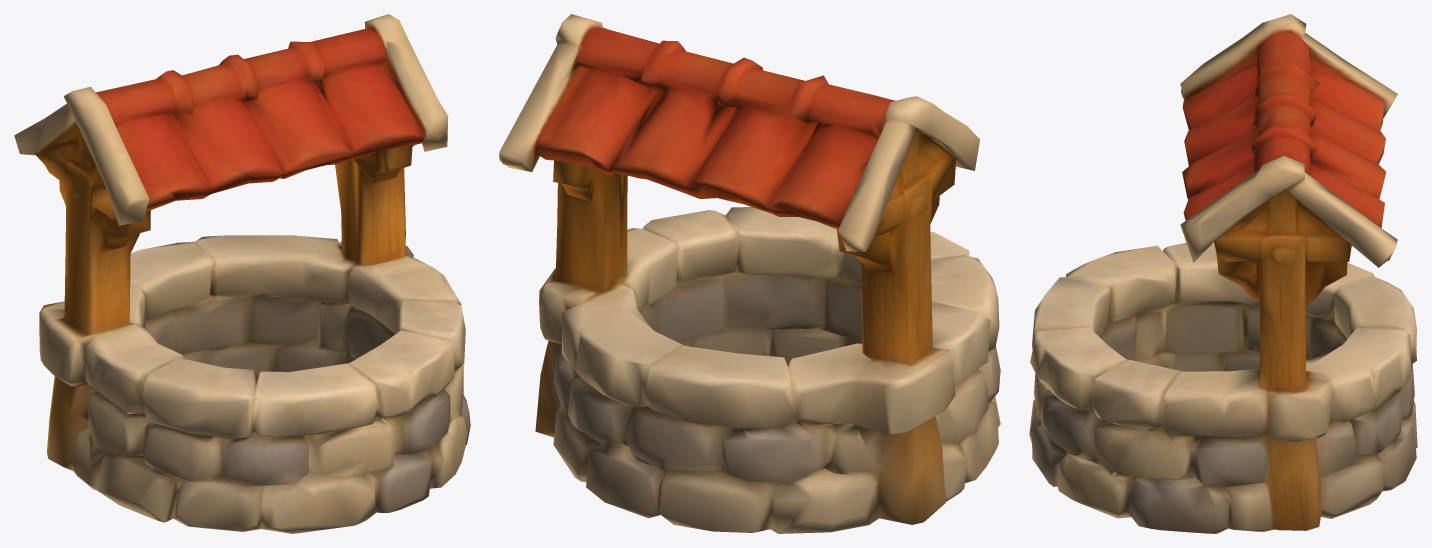
The model's file is well.glb.
3 renders of one model, left to right at view 1: azimuth 30°, elevation 25°; view 2: azimuth 150°, elevation 25°; view 3: azimuth 270°, elevation 25°, orthographic. The views are drawn at different scales.
Visible parts, largest first — view 1: tripo_node_312e6e6e-dfec-46a3-a551-f07d3f10c44f; view 2: tripo_node_312e6e6e-dfec-46a3-a551-f07d3f10c44f; view 3: tripo_node_312e6e6e-dfec-46a3-a551-f07d3f10c44f.
Part boxes in pixels (x1,y1,x2,y2): tripo_node_312e6e6e-dfec-46a3-a551-f07d3f10c44f: [14, 14, 470, 533]; tripo_node_312e6e6e-dfec-46a3-a551-f07d3f10c44f: [499, 14, 1000, 533]; tripo_node_312e6e6e-dfec-46a3-a551-f07d3f10c44f: [1029, 14, 1417, 533].
Size of the model in its own units: 0.9934 by 1 by 0.9612.
Materials: 1 (1 with a texture image).
